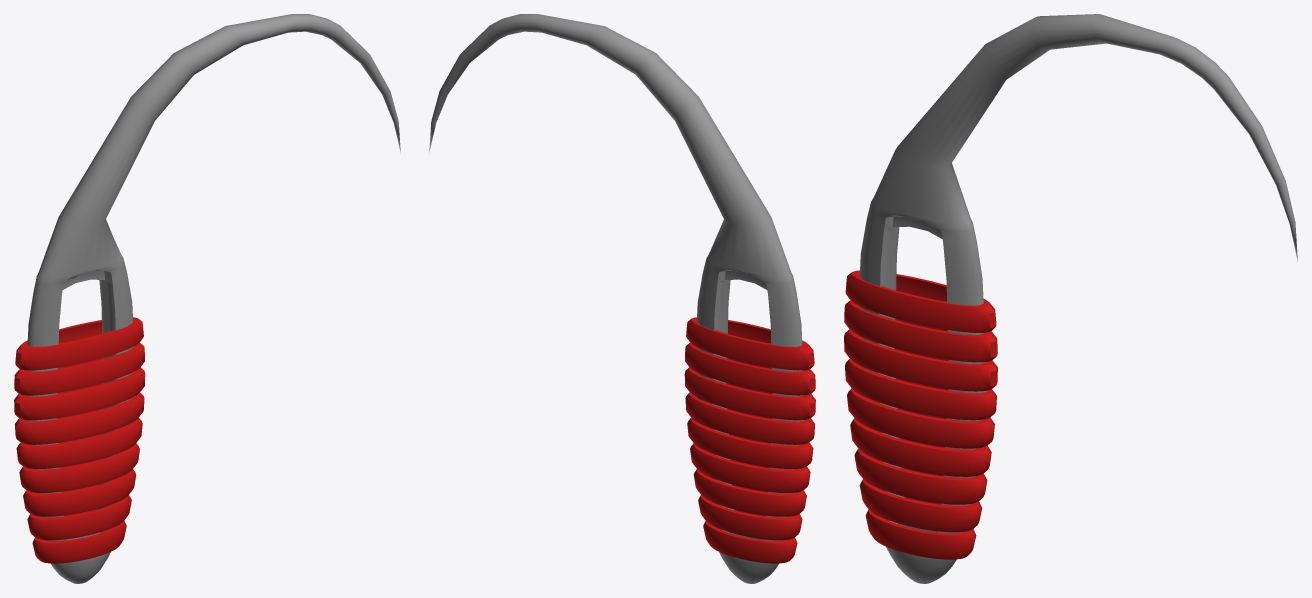
The model's file is Needle_Bended_rope.FBX.
3 renders of one model, left to right at view 1: azimuth 30°, elevation 25°; view 2: azimuth 150°, elevation 25°; view 3: azimuth 330°, elevation 25°, orthographic. The views are drawn at different scales.
Parts seen in each view (by area): view 1: Cylinder007; view 2: Cylinder007; view 3: Cylinder007.
Part boxes in pixels (left/top/right/bottom): Cylinder007: left=14, top=14, right=400, bottom=583; Cylinder007: left=429, top=14, right=815, bottom=583; Cylinder007: left=844, top=14, right=1297, bottom=583.
Size of the model in its own units: 28.03 by 36.02 by 3.19.
